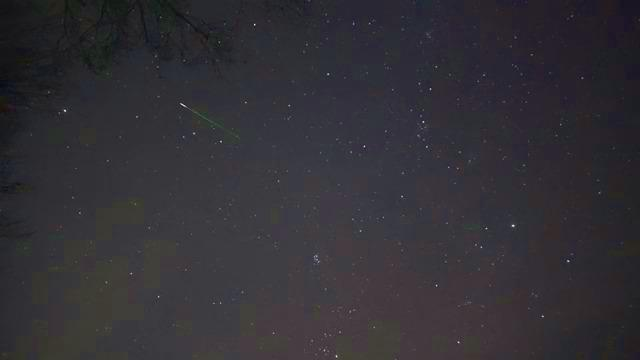meteorite: (163, 98, 250, 136)
